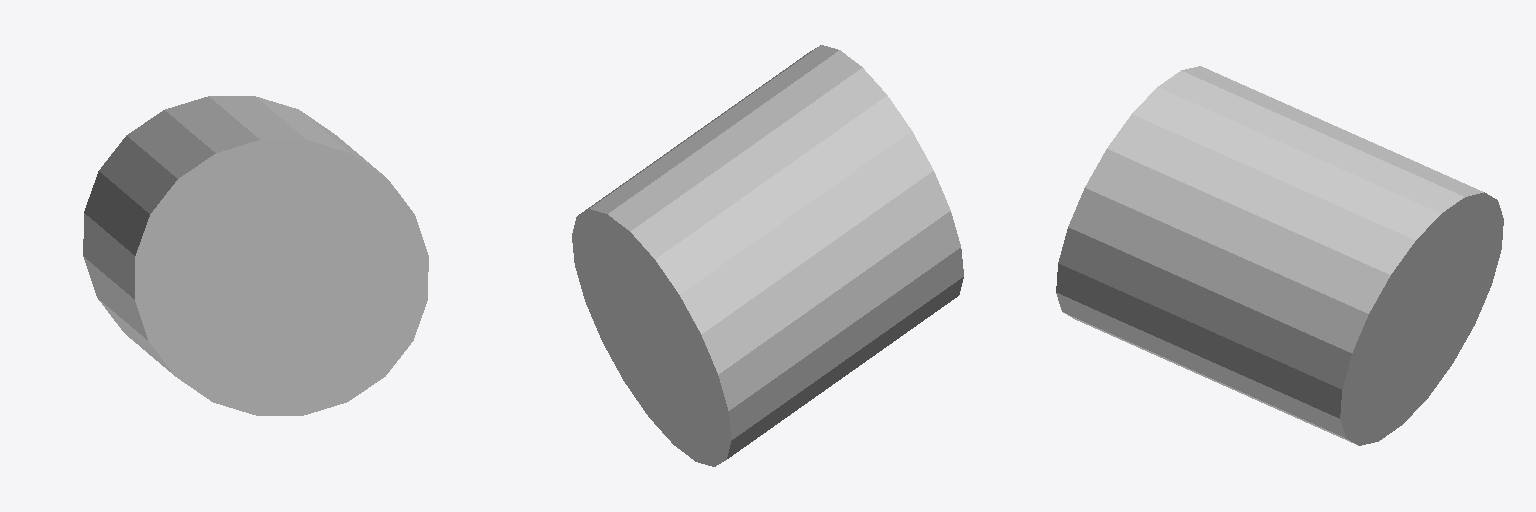
File: Resaltado_Supraorbitario_D.obj
The picture shows the model from 3 angles: view 1: azimuth 30°, elevation 25°; view 2: azimuth 150°, elevation 25°; view 3: azimuth 270°, elevation 25°; orthographic projection.
Visible parts, largest first — view 1: polySurface3 Marcadores1; view 2: polySurface3 Marcadores1; view 3: polySurface3 Marcadores1.
Boxes of the visible parts, box(x1,y1,x2,y2) form: polySurface3 Marcadores1: box(83, 96, 428, 415); polySurface3 Marcadores1: box(572, 45, 963, 466); polySurface3 Marcadores1: box(1056, 66, 1503, 445).
Bounding box in the file's own units: 0.0352 × 0.035 × 0.0434.